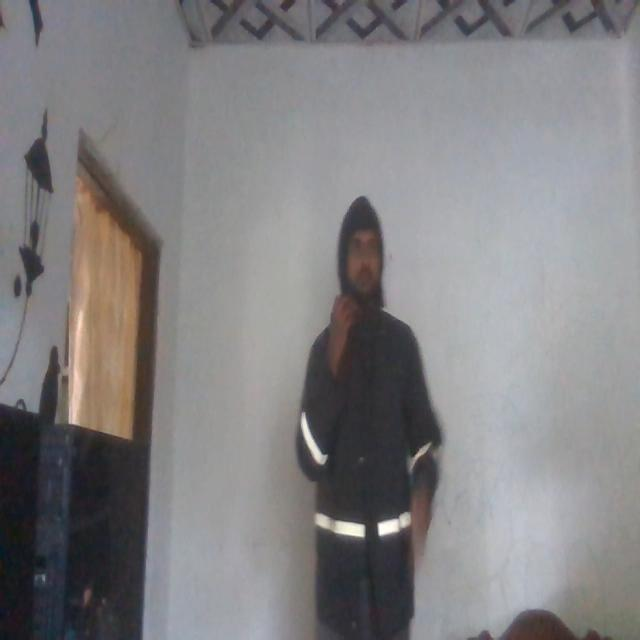Jacket_Wearer: (288, 290, 438, 631)
Person: (287, 192, 437, 640)
